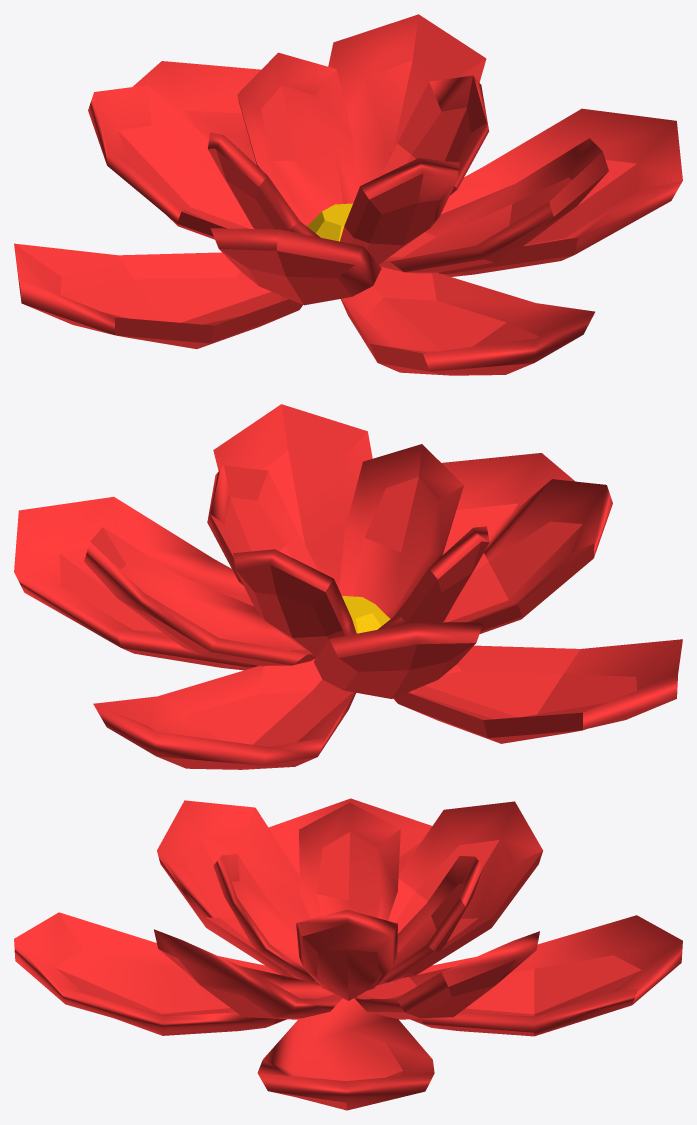
The model's file is red-flower.glb.
3 views of the same model, one above another, from view 1: azimuth 30°, elevation 25°; view 2: azimuth 150°, elevation 25°; view 3: azimuth 270°, elevation 25° (orthographic). The views are drawn at different scales.
Visible parts, largest first — view 1: Red Flower; view 2: Red Flower; view 3: Red Flower.
Boxes of the visible parts, bbox=[...] form: Red Flower: bbox=[14, 14, 682, 375]; Red Flower: bbox=[14, 404, 682, 769]; Red Flower: bbox=[14, 798, 682, 1110].
Bounding box in the file's own units: 8.84 × 2.51 × 8.84.
